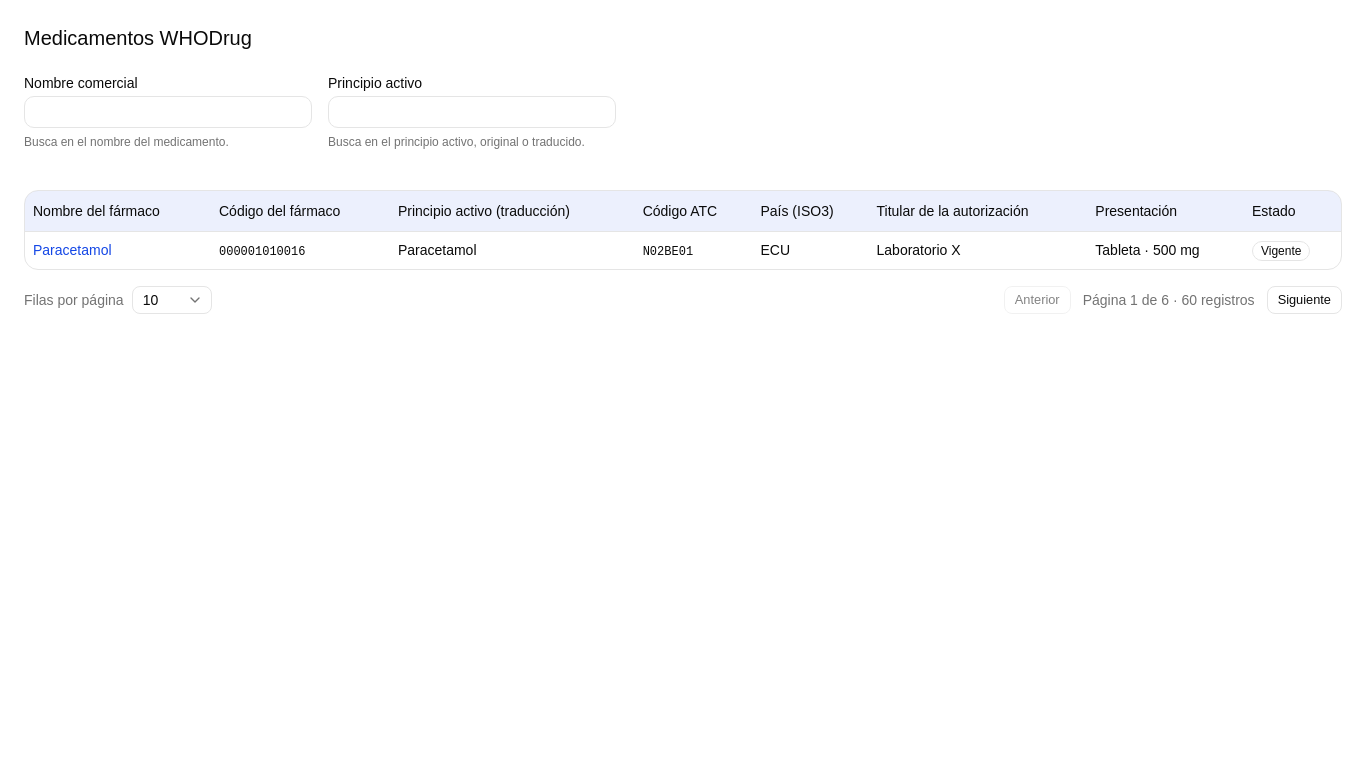
Test: WhodrugProductListPage — cabecera y filas (SPEC FE25d §3.1) › cambiar de página con el panel abierto lo cierra
Click the button "Paracetamol".
click(72, 250)  # box x1=33 y1=240 x2=112 y2=260
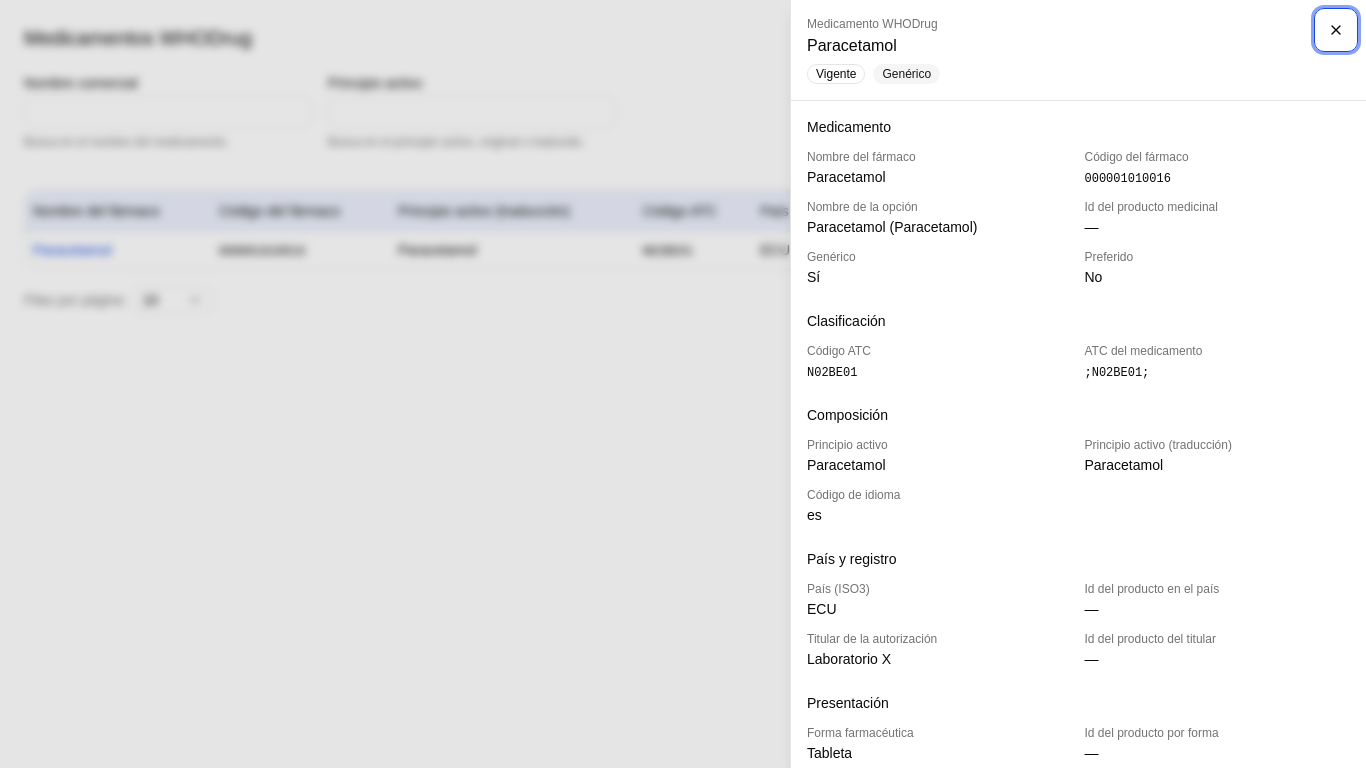
Now the dialog "Paracetamol" is shown, box x1=790 y1=0 x2=1365 y2=767
